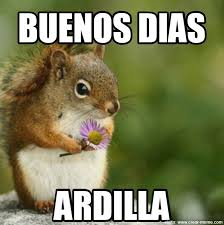Ardilla: (27, 48, 123, 179)
